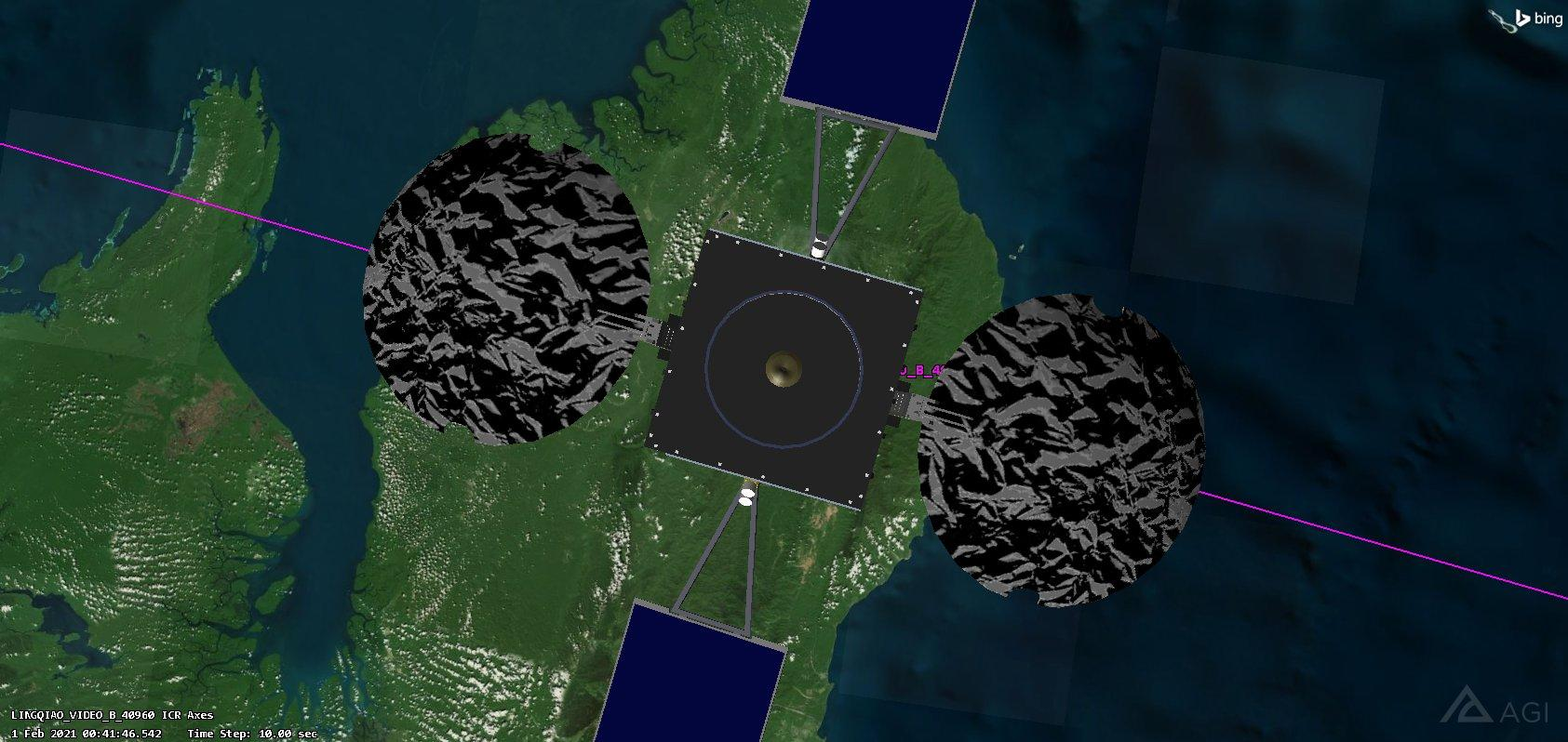antenna: (918, 291, 1209, 615), (360, 129, 655, 447)
body: (641, 224, 927, 515)
solar: (587, 601, 789, 742), (780, 0, 978, 140)
thruster: (765, 348, 805, 387)
